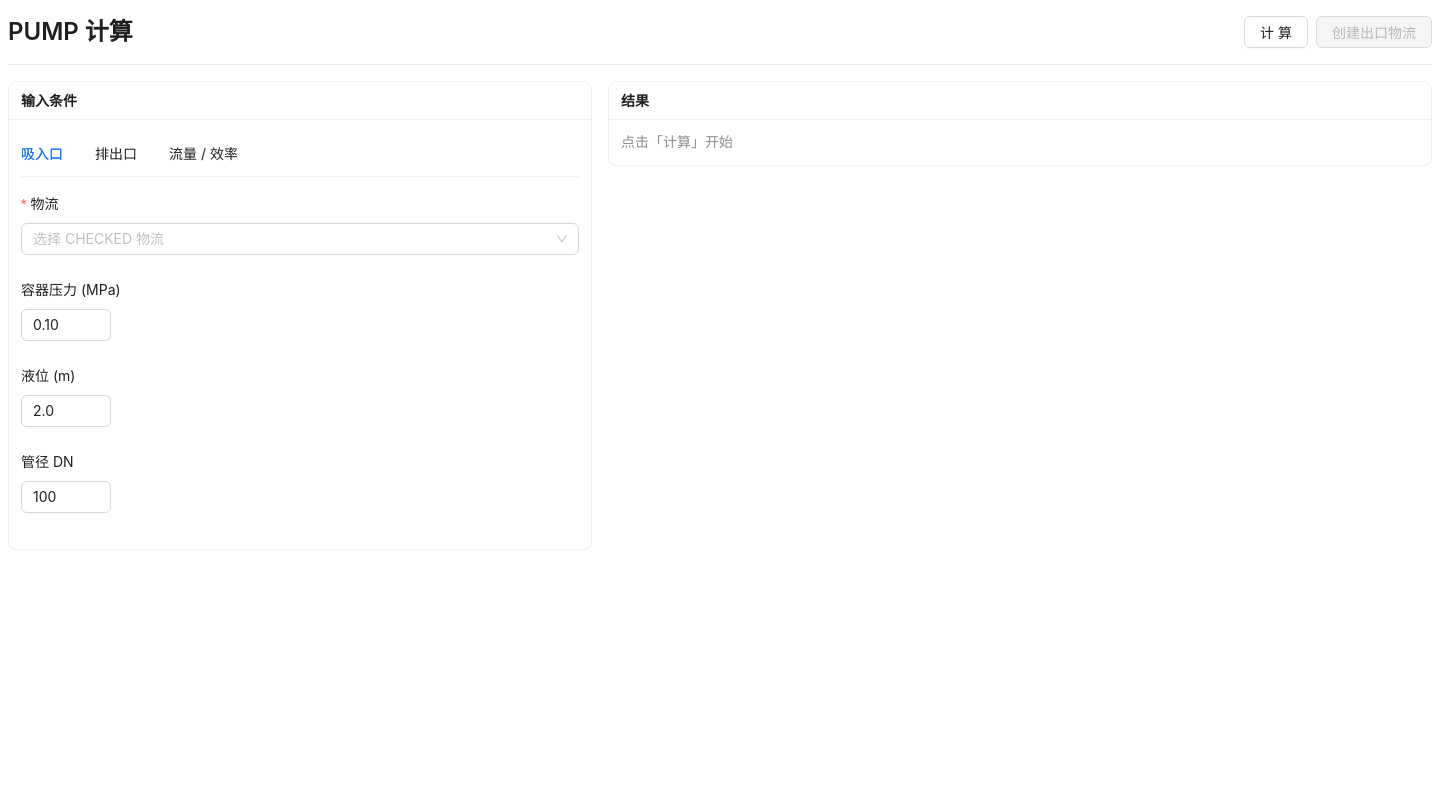
it: PumpComputePage — 渲染 (P45-3-7) › 切到「流量 / 效率」Tab：显示 3 流量 + 2 效率 + 控制阀压降
Click the tab with test id "pump-tab-flow": x=203, y=154 [169, 143, 238, 165]
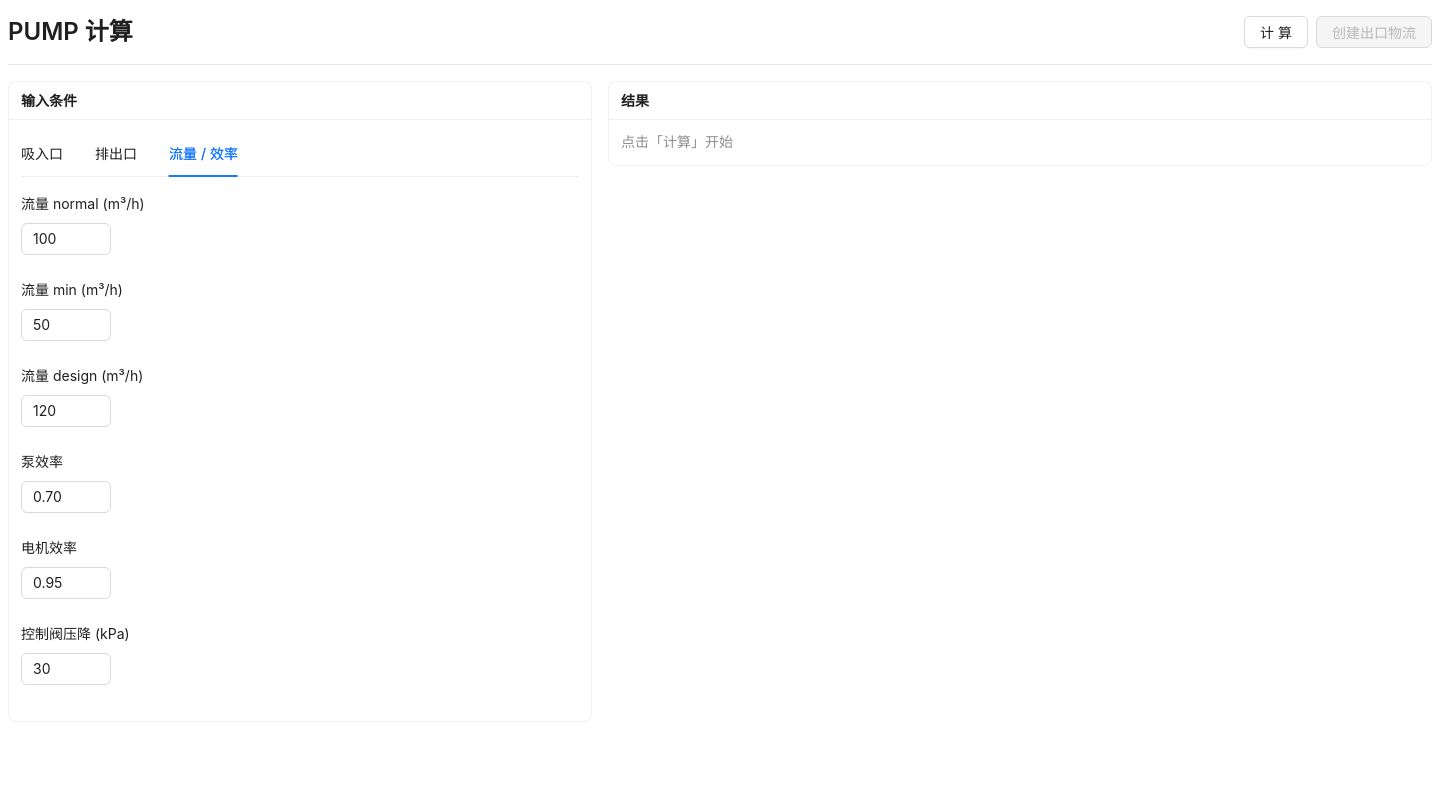
Now the number field with test id "pump-flow-normal" is shown, box [22, 224, 110, 254]
Now the number field with test id "pump-flow-min" is shown, box [22, 310, 110, 340]
Now the number field with test id "pump-flow-design" is shown, box [22, 396, 110, 426]
